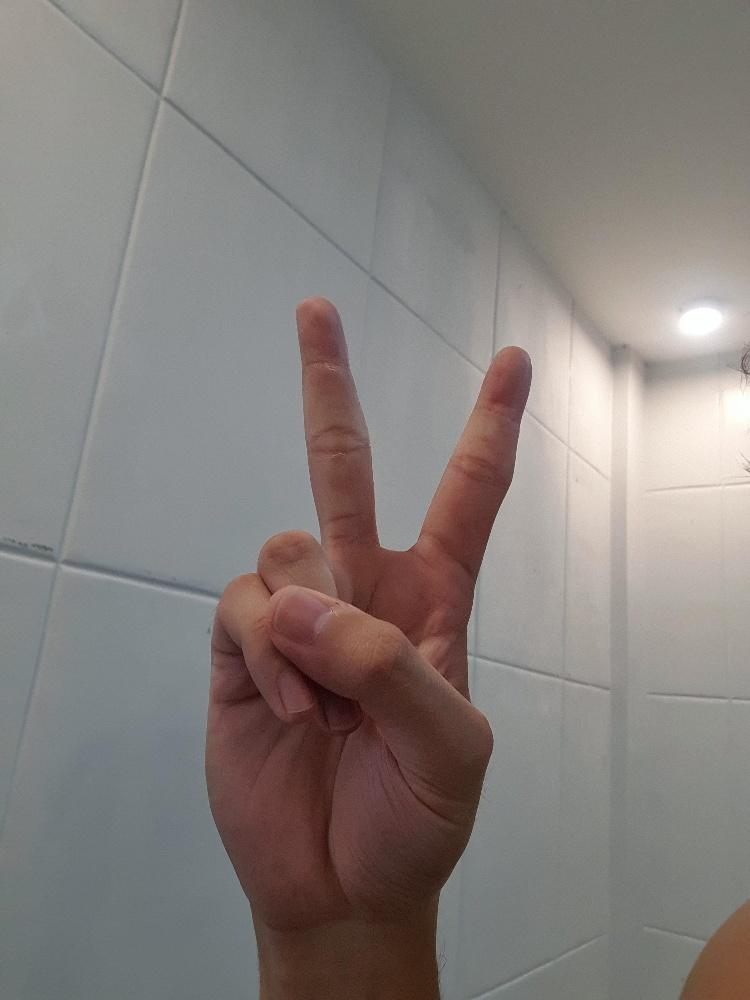v: (200, 292, 536, 942)
